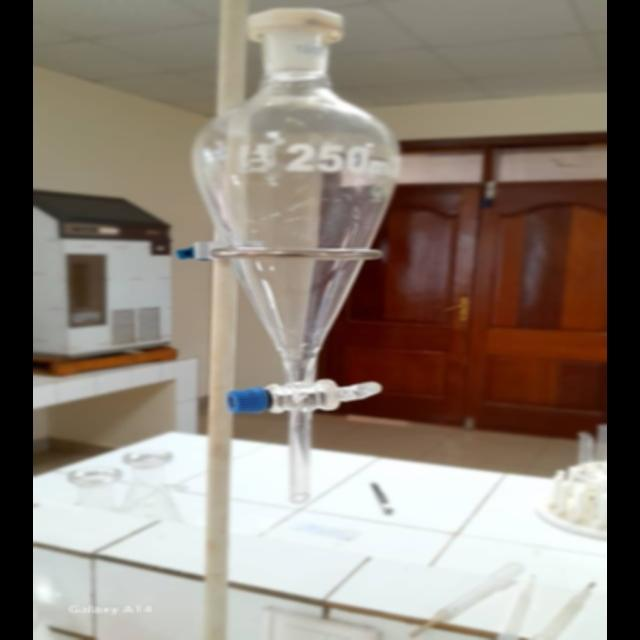Separating Funnel: (192, 0, 400, 507)
